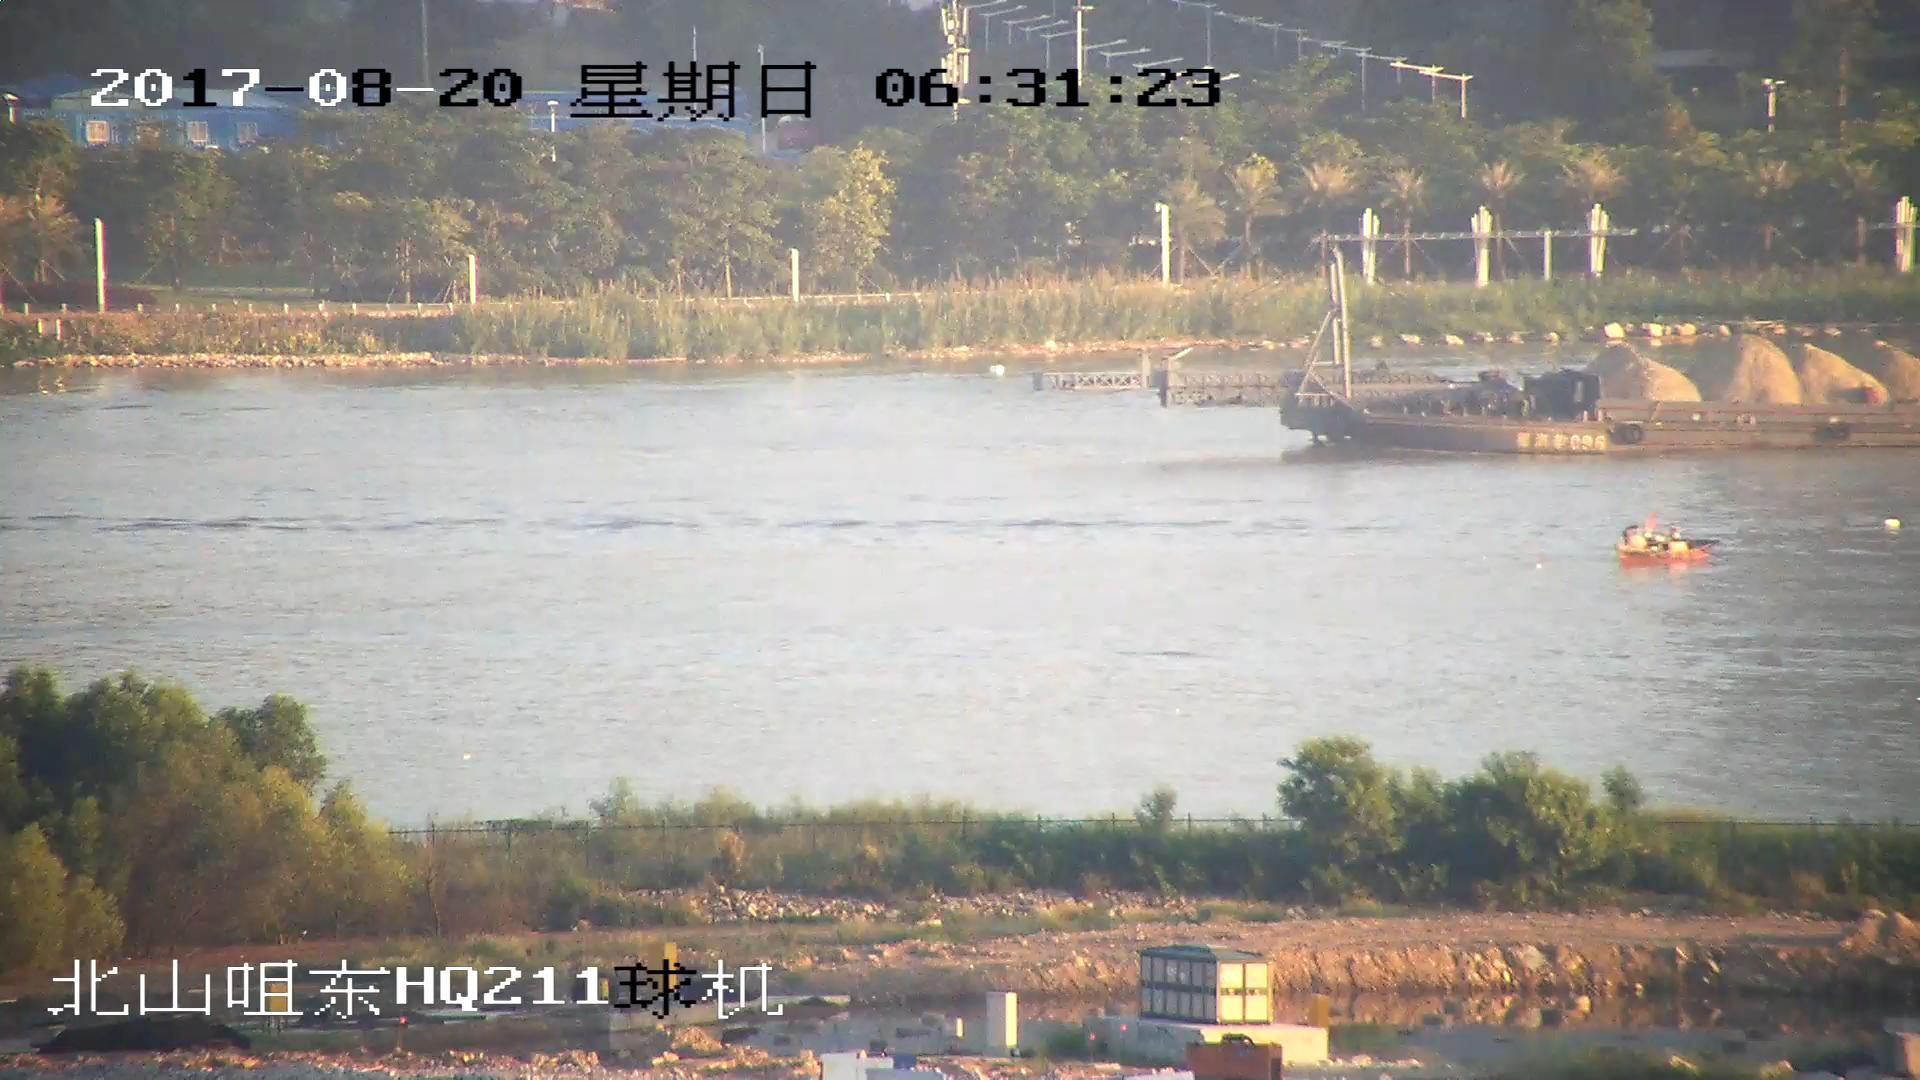fishing boat: (1611, 514, 1724, 565)
ore carrier: (1026, 249, 1920, 458)
